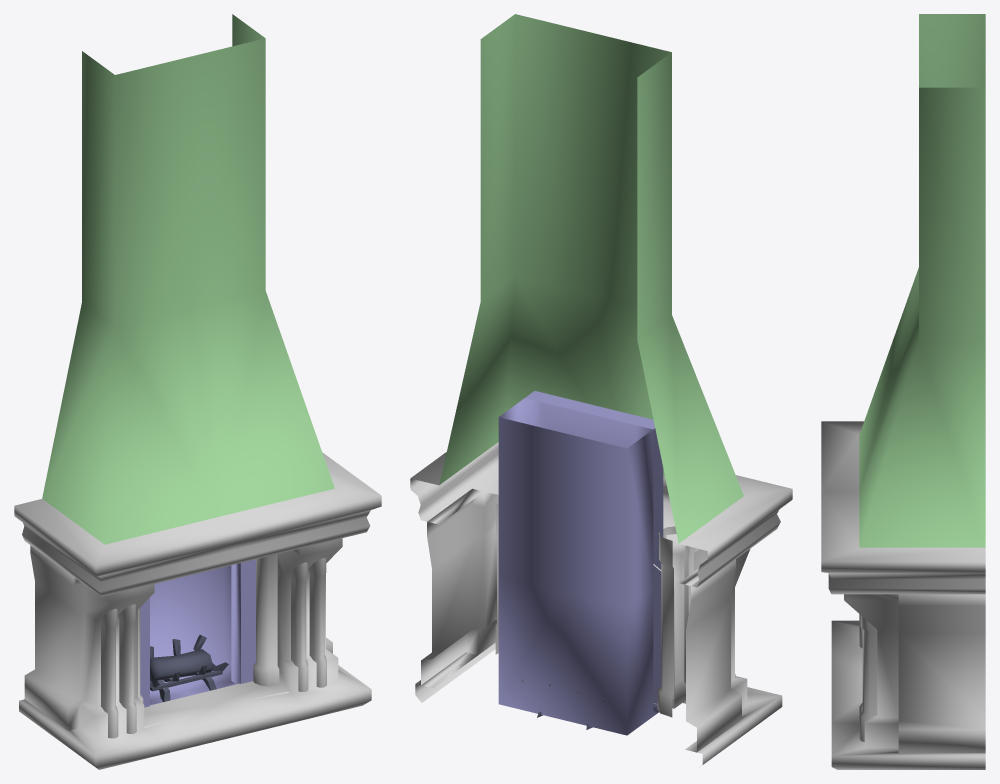
File: Fireplace2.fbx
3 renders of one model, left to right at view 1: azimuth 30°, elevation 25°; view 2: azimuth 150°, elevation 25°; view 3: azimuth 270°, elevation 25°, orthographic. The views are drawn at different scales.
Parts seen in each view (by area): view 1: Fireplace2; view 2: Fireplace2; view 3: Fireplace2.
Boxes of the visible parts, bbox=[...] form: Fireplace2: bbox=[14, 14, 381, 769]; Fireplace2: bbox=[410, 14, 792, 764]; Fireplace2: bbox=[821, 14, 985, 769].
Bounding box in the file's own units: 202 × 439 × 99.85.
